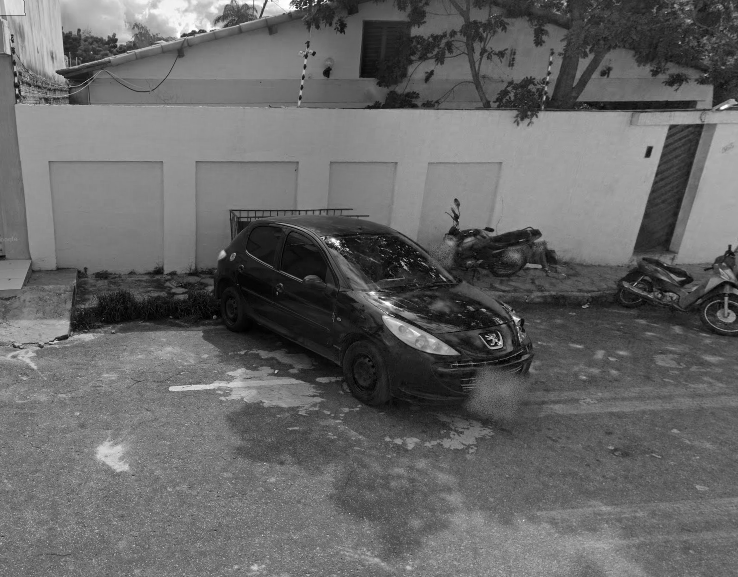car: (212, 214, 534, 415)
